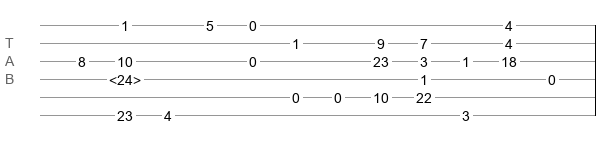0: (249, 54, 257, 64), (249, 18, 257, 28), (292, 90, 300, 100), (334, 90, 342, 100), (548, 72, 556, 82)
1: (121, 18, 129, 28), (292, 36, 300, 46), (420, 72, 428, 82), (462, 54, 470, 64)
10: (117, 54, 133, 64), (373, 90, 389, 100)
18: (501, 54, 517, 64)
22: (416, 90, 432, 100)
23: (117, 108, 133, 118), (373, 54, 389, 64)
3: (420, 54, 428, 64), (462, 108, 470, 118)
4: (164, 108, 172, 118), (505, 18, 513, 28), (505, 36, 513, 46)
5: (206, 18, 214, 28)
7: (420, 36, 428, 46)
8: (78, 54, 86, 64)
9: (377, 36, 385, 46)
harmonic: (109, 72, 141, 82)
